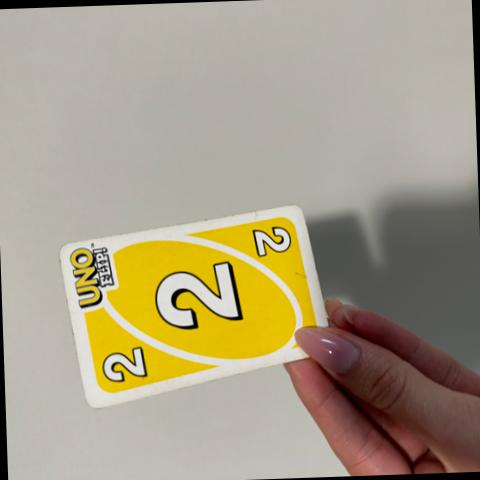lyellow-2: (92, 337, 156, 395)
